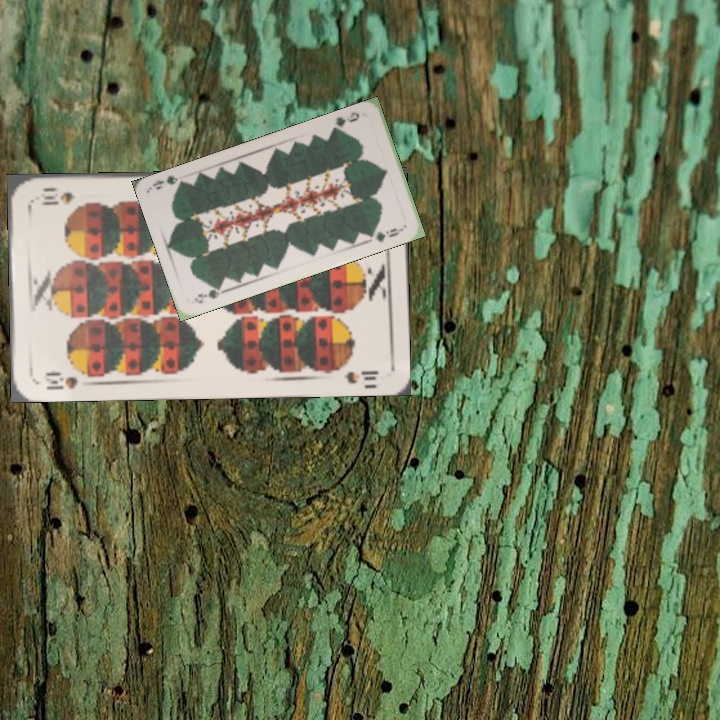G9: (190, 282, 228, 306), (328, 107, 362, 133)
S10: (41, 367, 80, 392)
